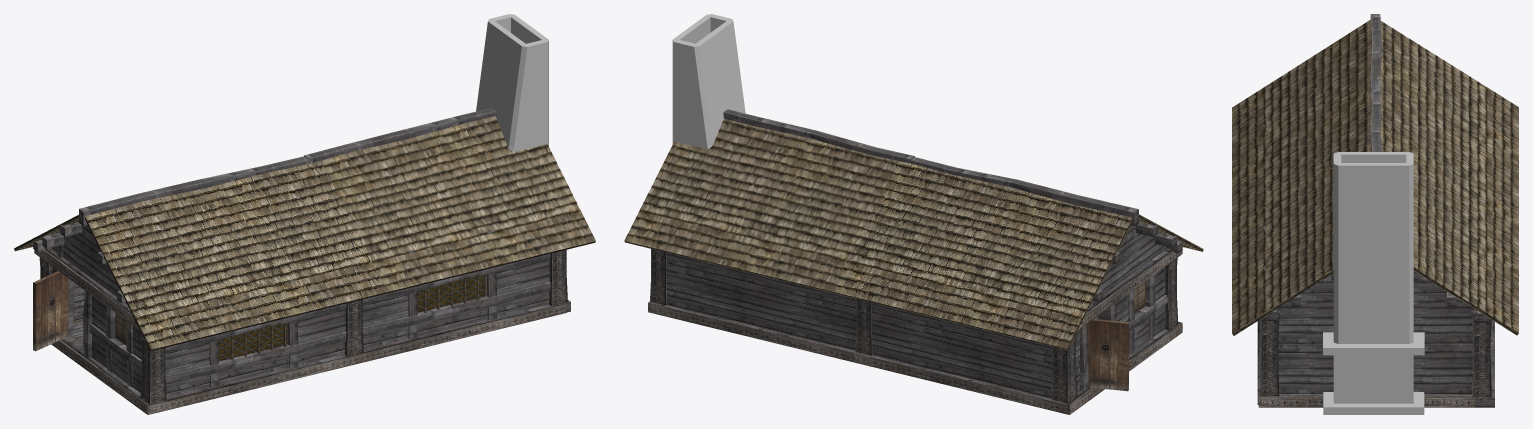
Rendered from v3_house7.dae.
3 views of the same model, side by side, from view 1: azimuth 30°, elevation 25°; view 2: azimuth 150°, elevation 25°; view 3: azimuth 270°, elevation 25° (orthographic). The views are drawn at different scales.
Parts seen in each view (by area): view 1: roof_01, WoodPlanks, WoodPlanks_ornaments, DefaultLib1.Material, dorwindow_set, windows2_c; view 2: roof_01, WoodPlanks, WoodPlanks_ornaments, DefaultLib1.Material, dorwindow_set; view 3: roof_01, DefaultLib1.Material, WoodPlanks, WoodPlanks_ornaments.
Part boxes in pixels (x1,y1,x2,y2): roof_01: (14,116,595,350); WoodPlanks: (33,108,550,397); WoodPlanks_ornaments: (34,247,570,414); DefaultLib1.Material: (476,14,548,151); dorwindow_set: (33,271,479,360); windows2_c: (218,274,486,361); roof_01: (624,118,1203,350); WoodPlanks: (666,109,1182,398); WoodPlanks_ornaments: (648,248,1182,414); DefaultLib1.Material: (672,14,745,149); dorwindow_set: (1087,281,1145,391); roof_01: (1232,20,1518,335); DefaultLib1.Material: (1323,152,1424,414); WoodPlanks: (1260,14,1488,393); WoodPlanks_ornaments: (1257,310,1494,407).
Bounding box in the file's own units: 19.55 × 9.38 × 9.75.
